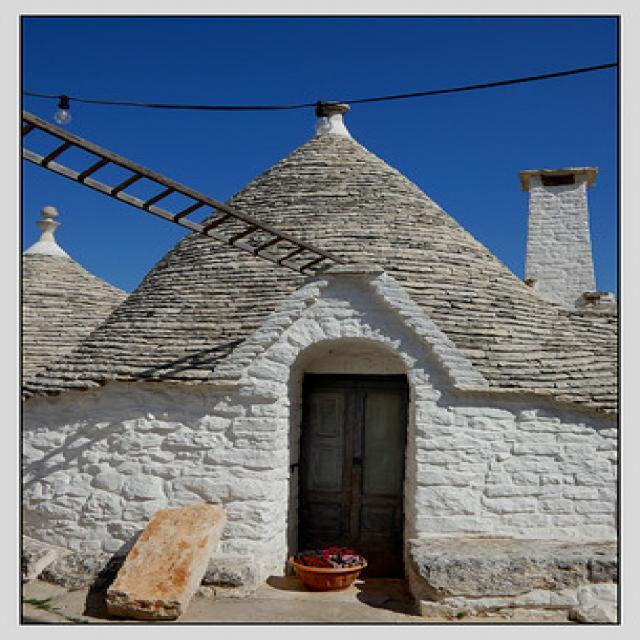Normal_building: (30, 106, 616, 617)
